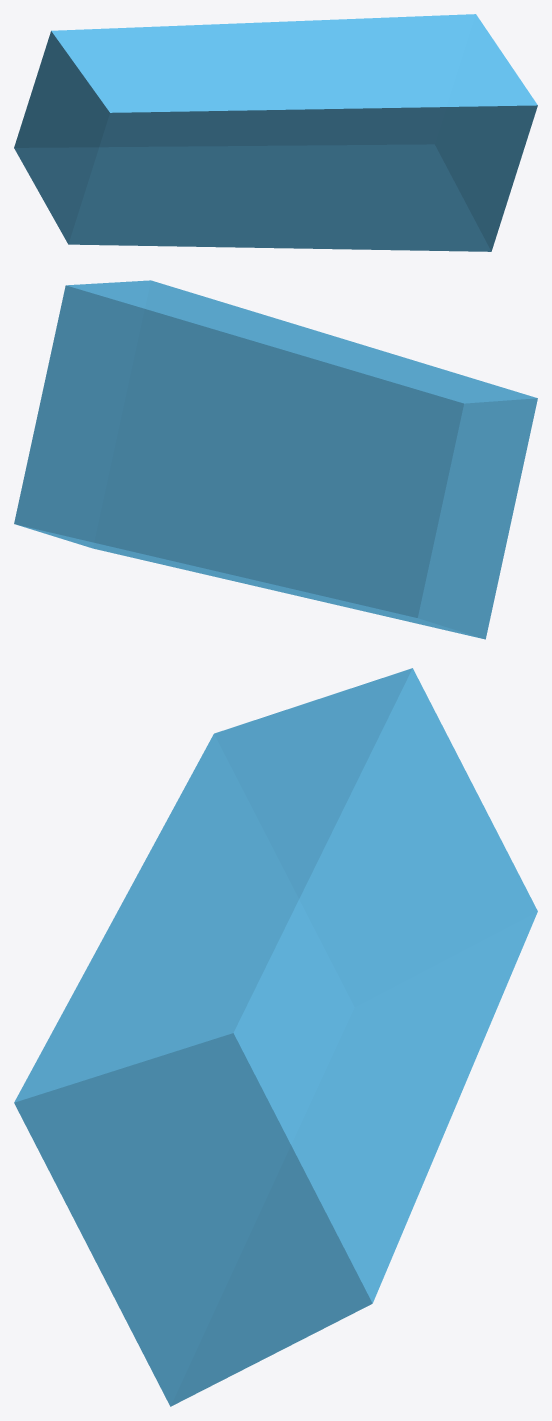
Rendered from Event_420107950_HErechit_19.fbx.
3 views of the same model, one above another, from view 1: azimuth 30°, elevation 25°; view 2: azimuth 150°, elevation 25°; view 3: azimuth 270°, elevation 25° (orthographic). The views are drawn at different scales.
Visible parts, largest first — view 1: Model; view 2: Model; view 3: Model.
Boxes of the visible parts, x1=… form: Model: x1=14, y1=14, x2=537, y2=251; Model: x1=14, y1=280, x2=537, y2=639; Model: x1=14, y1=668, x2=537, y2=1406.
Bounding box in the file's own units: 1.14 × 0.7586 × 0.827.
